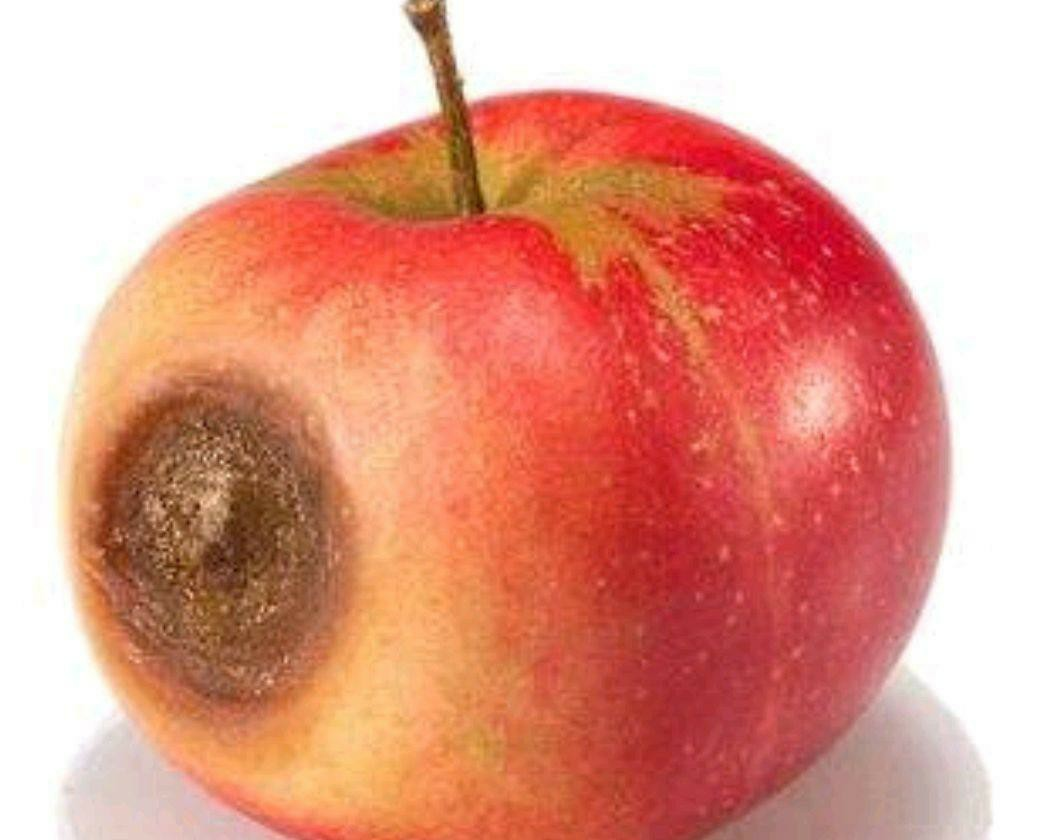rotten_apple: (57, 90, 953, 840)
